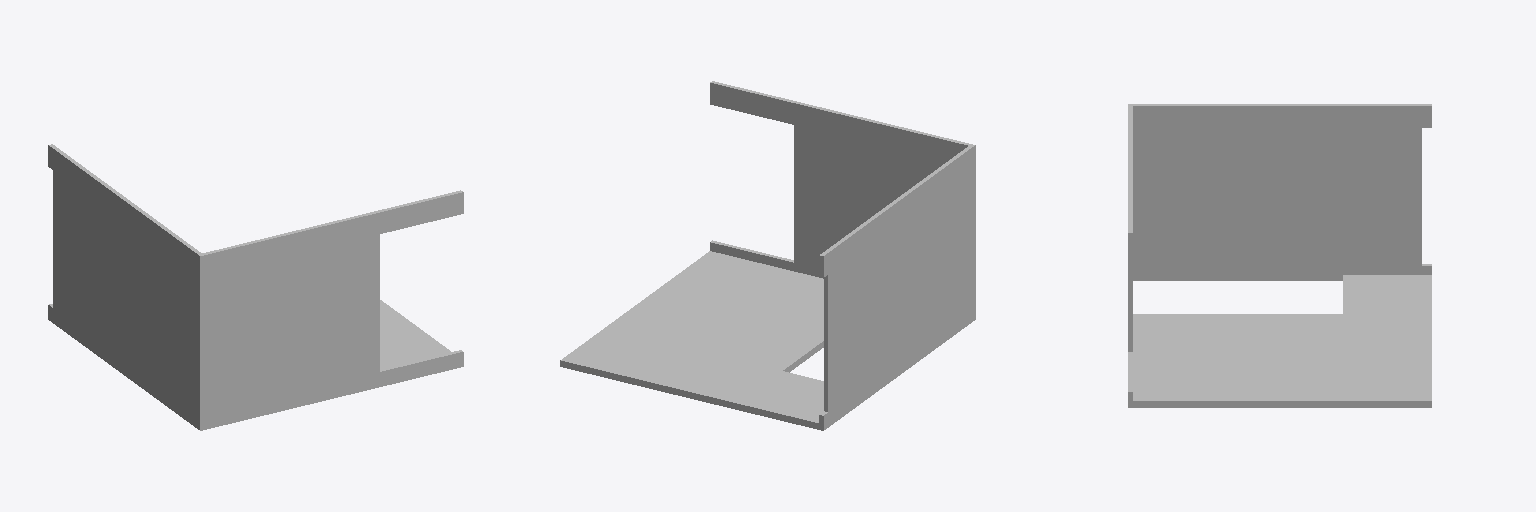
Rendered from 4x2 third (des)-1.obj.
3 renders of one model, left to right at view 1: azimuth 30°, elevation 25°; view 2: azimuth 150°, elevation 25°; view 3: azimuth 270°, elevation 25°, orthographic.
Visible parts, largest first — view 1: 4x2 third (des)-1; view 2: 4x2 third (des)-1; view 3: 4x2 third (des)-1.
Boxes of the visible parts, x1=… form: 4x2 third (des)-1: x1=48, y1=144, x2=463, y2=430; 4x2 third (des)-1: x1=560, y1=81, x2=975, y2=430; 4x2 third (des)-1: x1=1128, y1=104, x2=1431, y2=407.
Bounding box in the file's own units: 126 × 80 × 126.